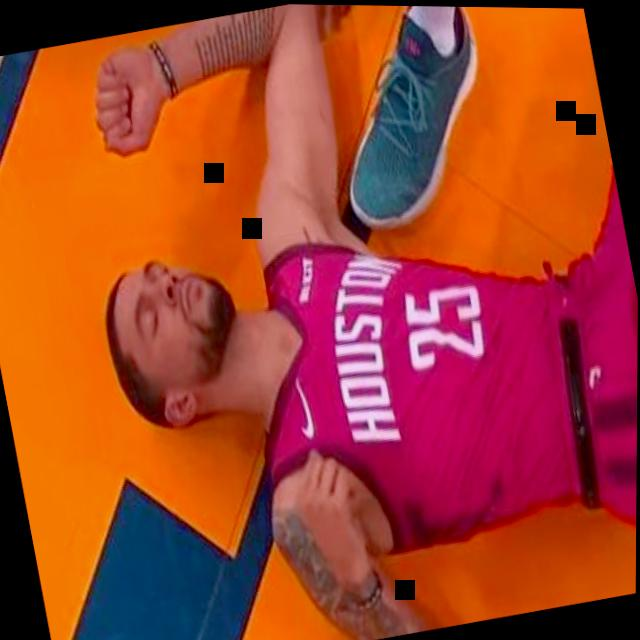Fall-Detected: (53, 1, 640, 640)
